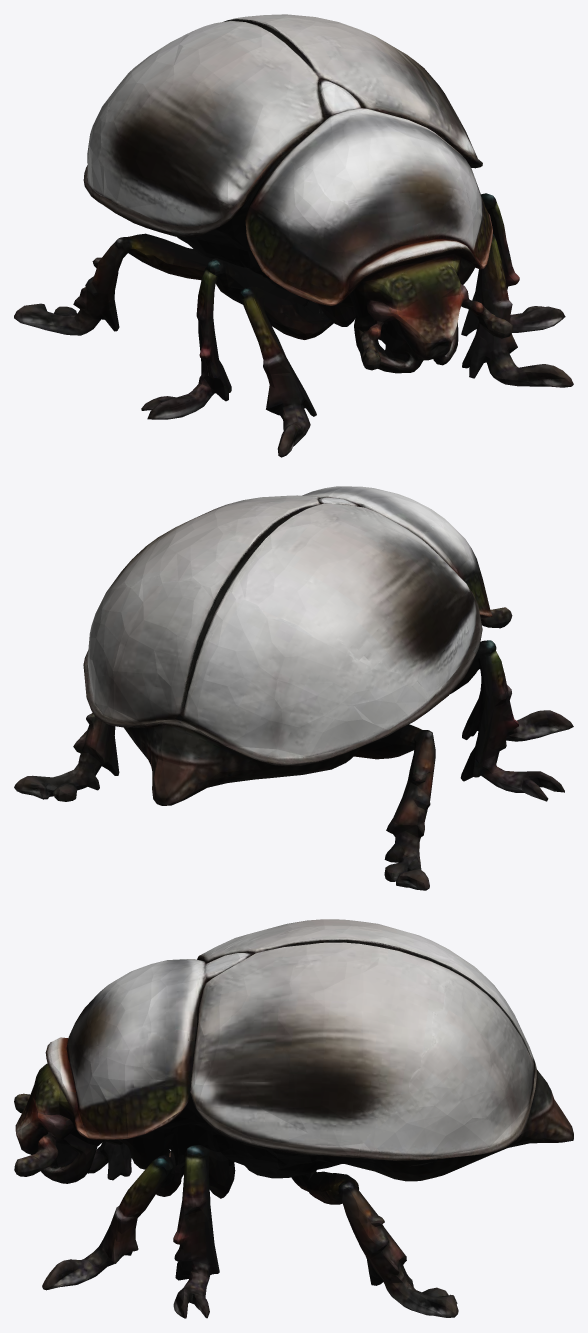
The model's file is mirrorBeetle.glb.
3 renders of one model, top to bottom at view 1: azimuth 30°, elevation 25°; view 2: azimuth 150°, elevation 25°; view 3: azimuth 270°, elevation 25°, orthographic.
Visible parts, largest first — view 1: world; view 2: world; view 3: world.
Part boxes in pixels (left/top/right/bottom): world: left=14, top=14, right=573, bottom=457; world: left=14, top=486, right=573, bottom=890; world: left=14, top=919, right=573, bottom=1318.
Bounding box in the file's own units: 0.8615 × 0.5617 × 1.
1 material, 1 textured.
